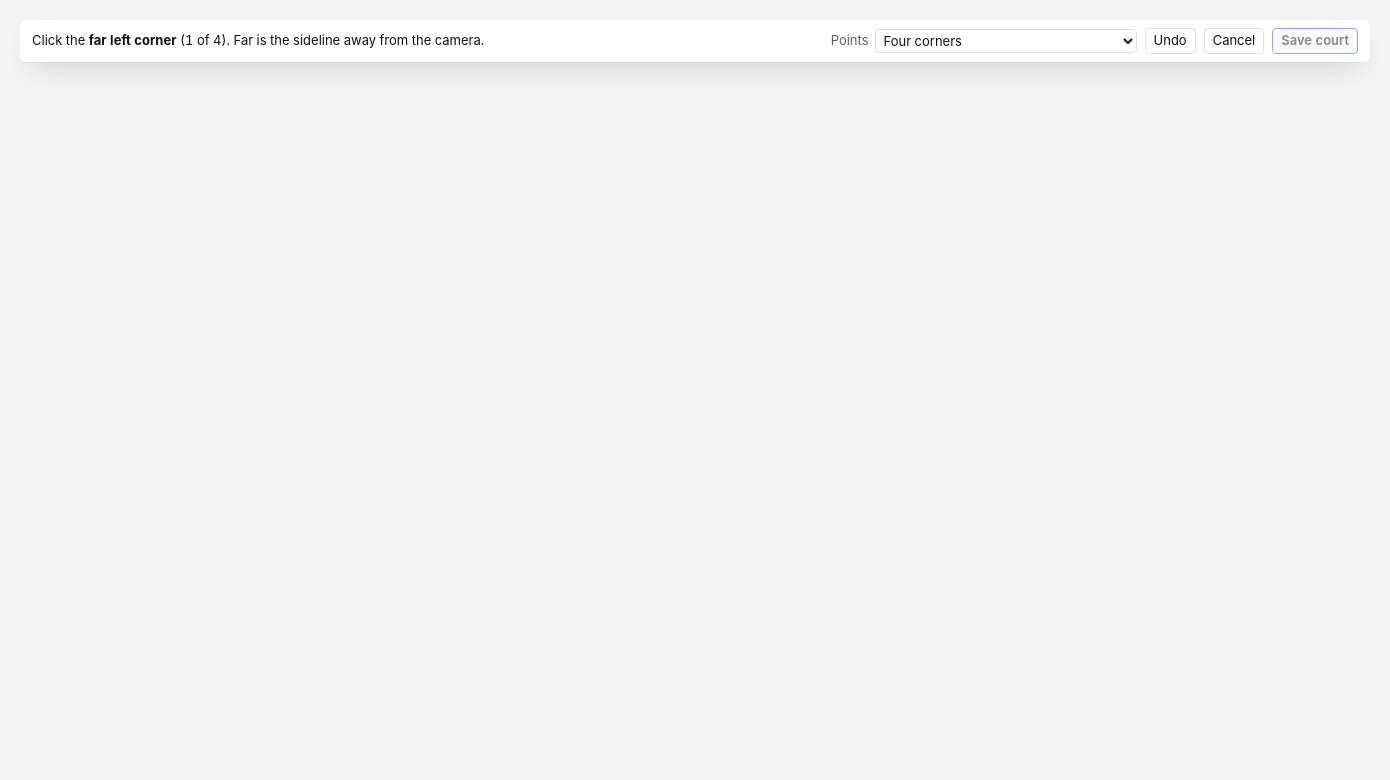
it: crossed corners cannot be saved; undo moves the last one
This screenshot has width=1390, height=780.
Press the mouse on the element with class "cursor-crosshair": (695, 396) left=12, top=12, right=1378, bottom=779
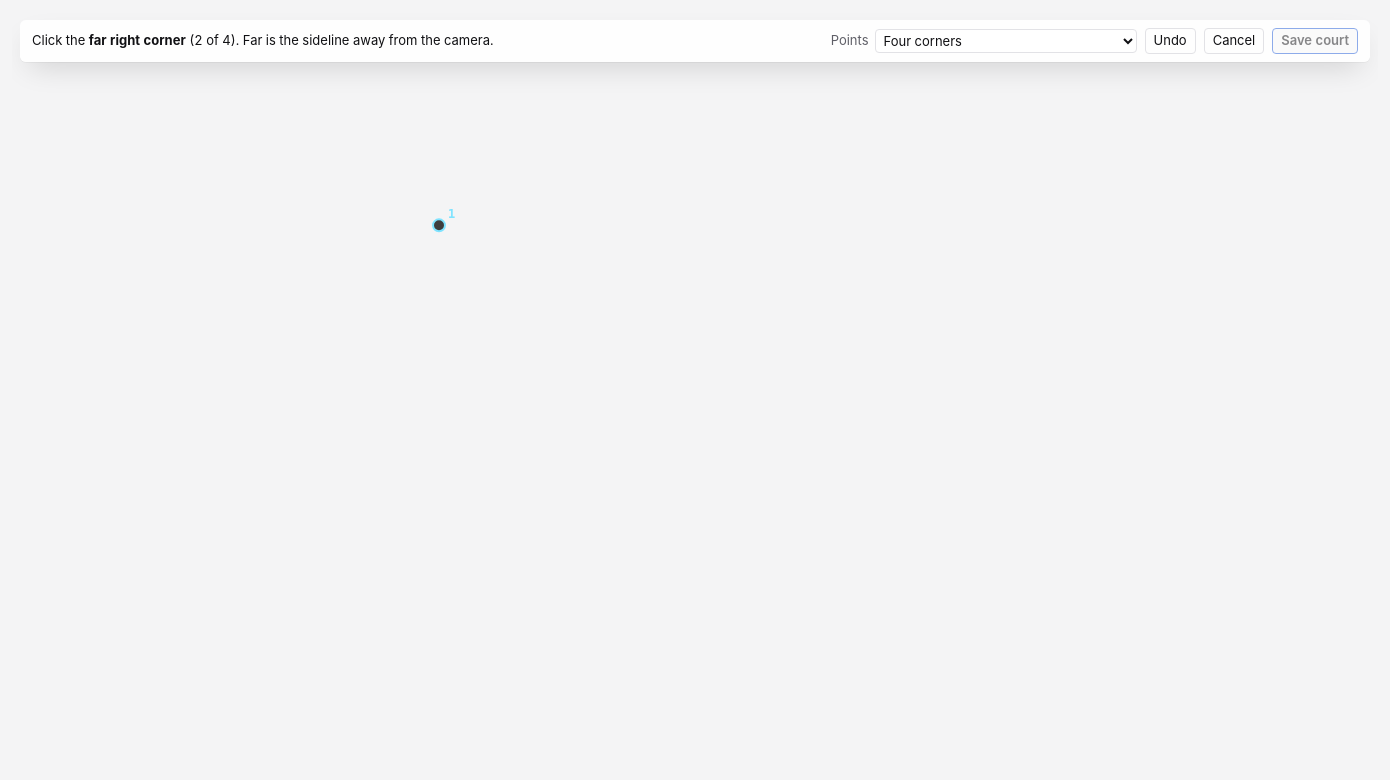
Press the mouse on the element with class "cursor-crosshair": (695, 396) left=12, top=12, right=1378, bottom=779
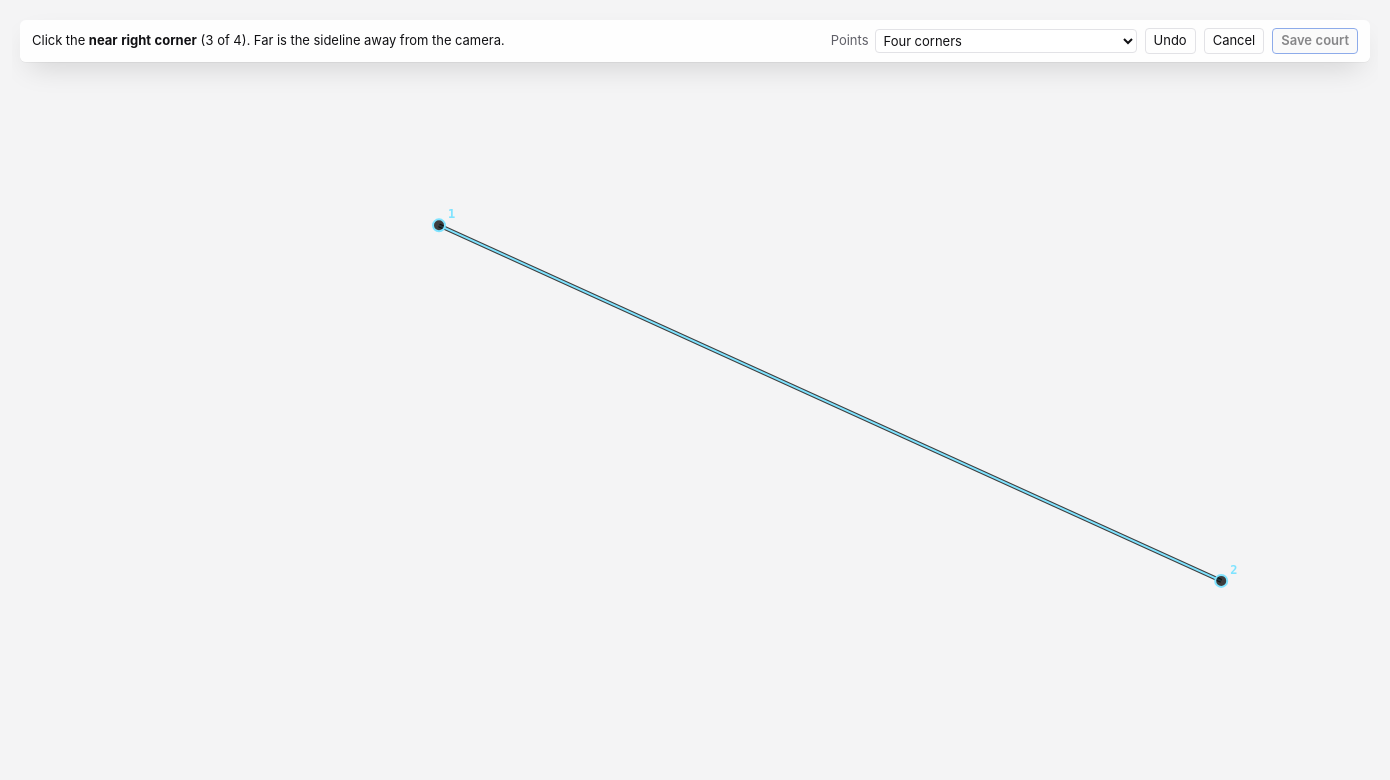
Press the mouse on the element with class "cursor-crosshair": (695, 396) left=12, top=12, right=1378, bottom=779
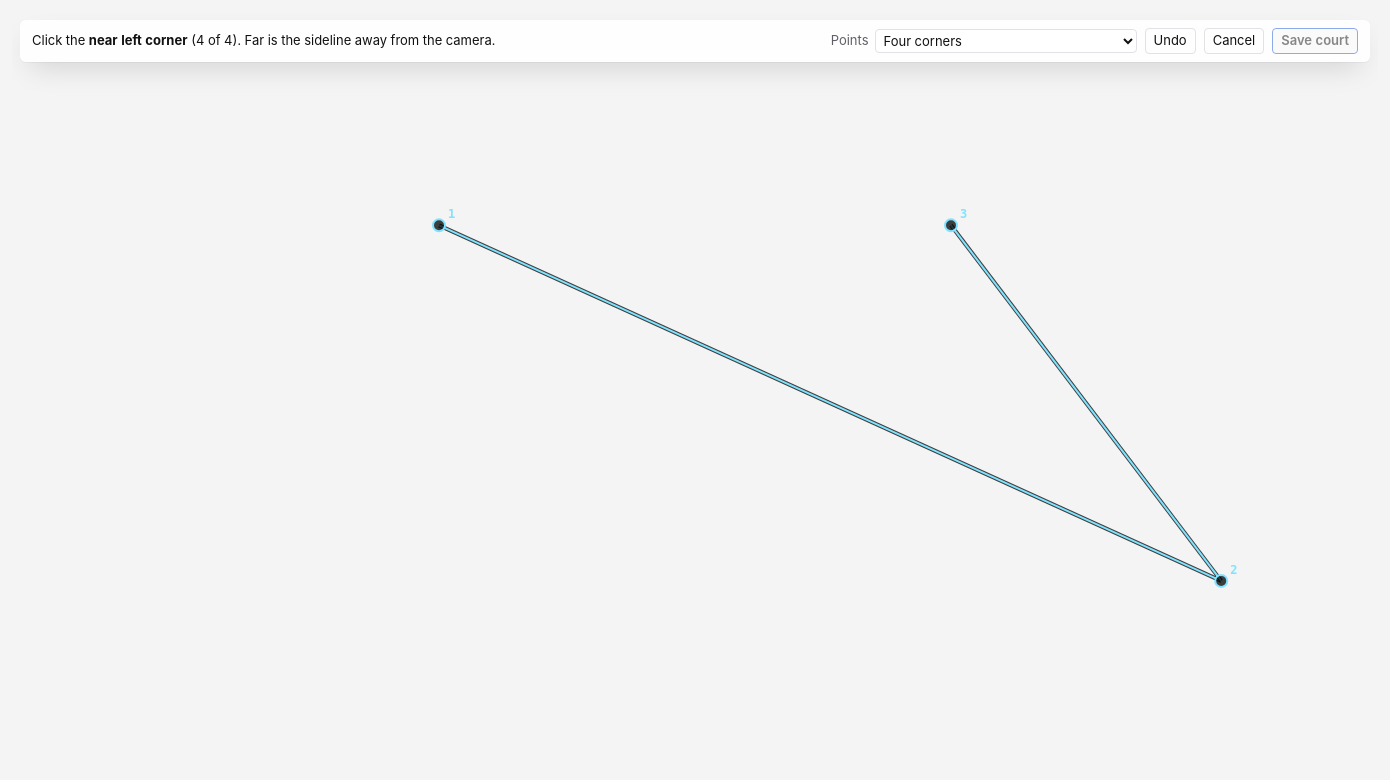
Press the mouse on the element with class "cursor-crosshair": (695, 396) left=12, top=12, right=1378, bottom=779
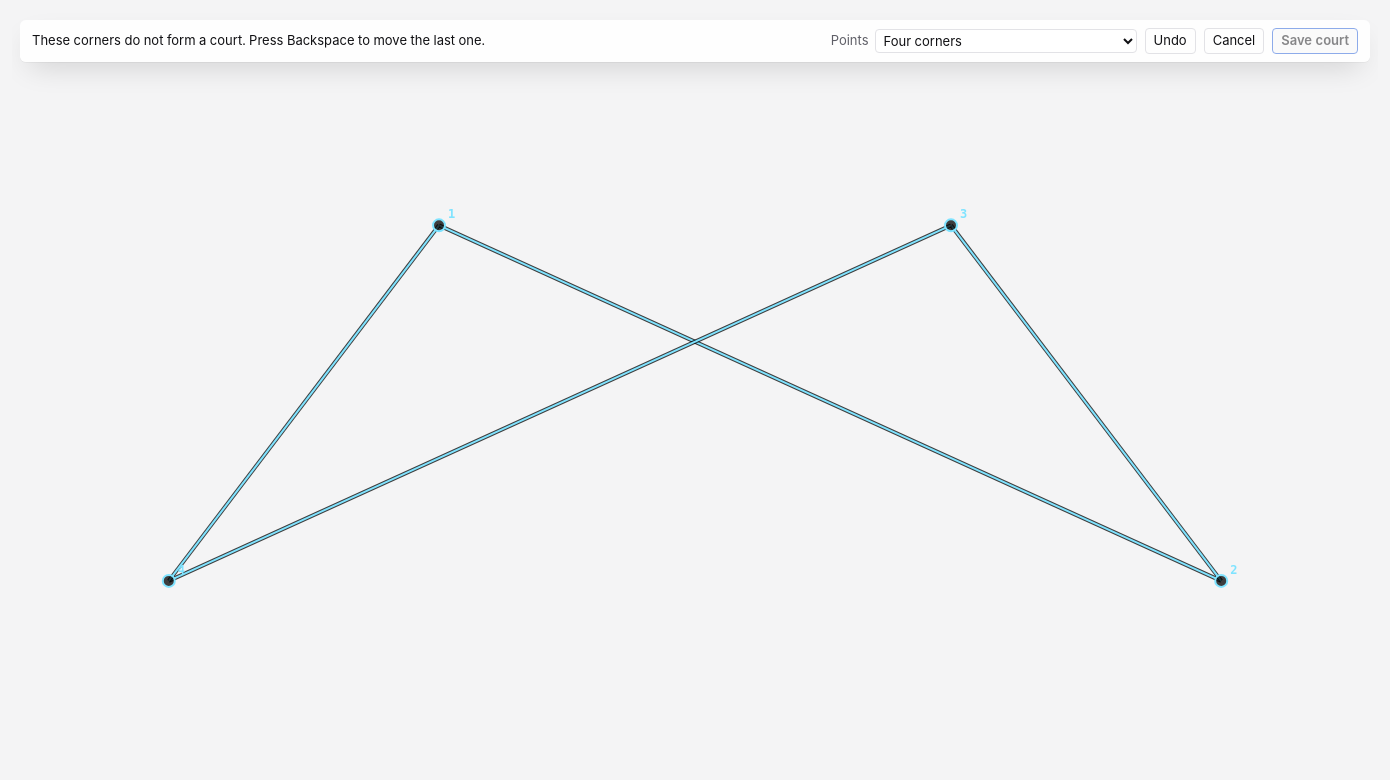
expect the button "Save court" is disabled: met, box left=1272, top=28, right=1358, bottom=54
expect the text "do not form a court" is shown: met, box left=32, top=32, right=485, bottom=48
Click the button "Undo": (1170, 41) left=1144, top=28, right=1196, bottom=54
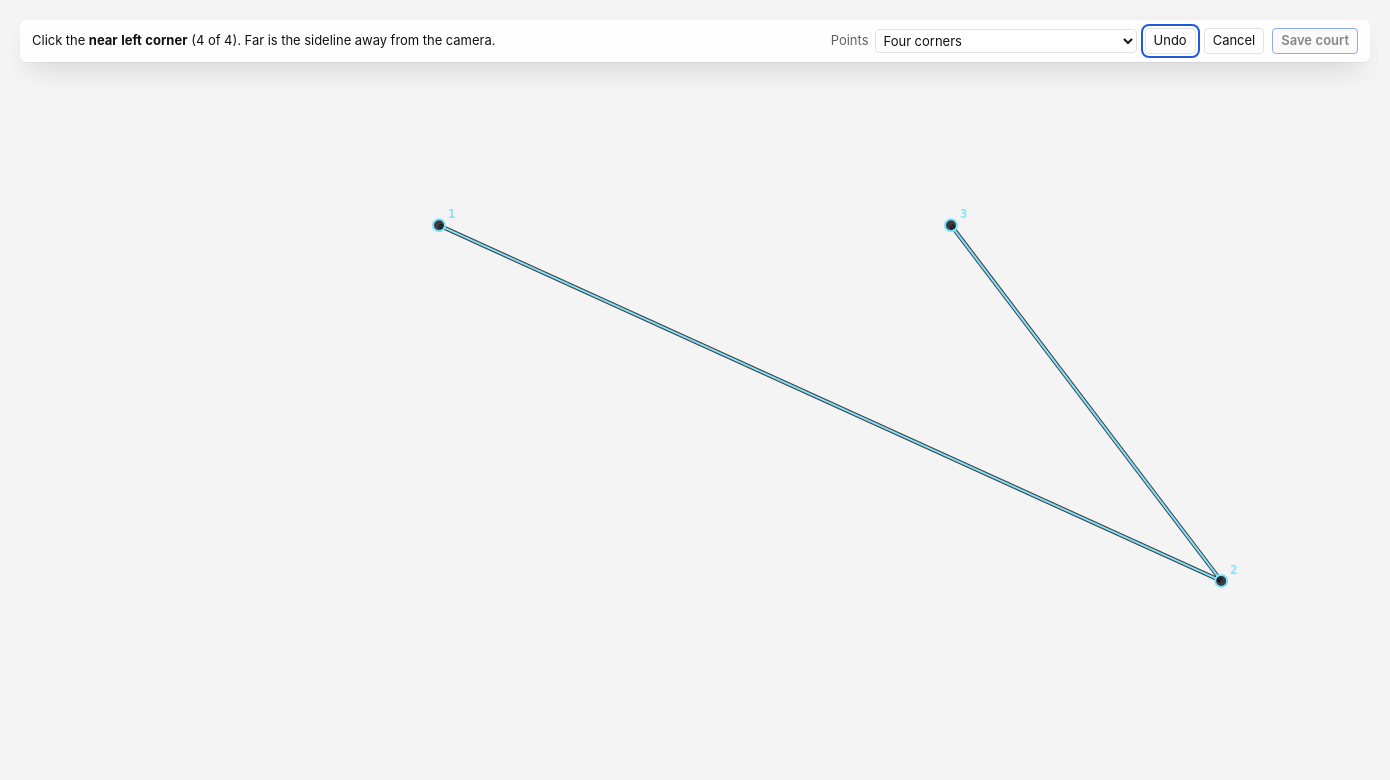
expect the text "near left corner" is shown: met, box left=89, top=32, right=188, bottom=48
